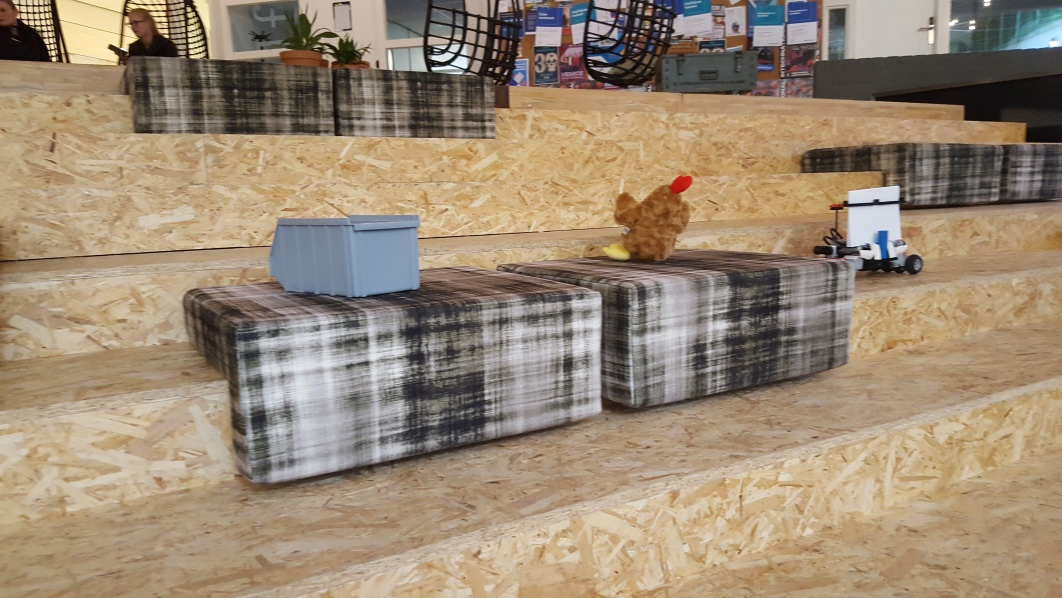car: (813, 184, 922, 276)
chicken: (606, 174, 694, 261)
tray: (267, 211, 429, 300)
